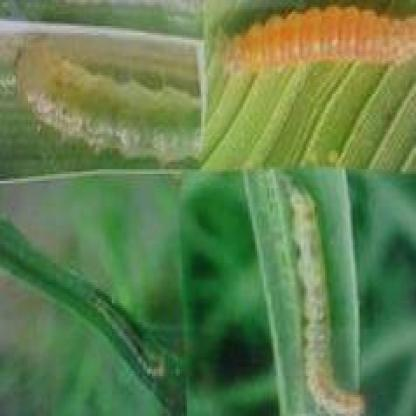leaf-folder: (260, 169, 382, 416), (5, 32, 198, 170), (225, 8, 416, 101), (83, 260, 177, 404)
